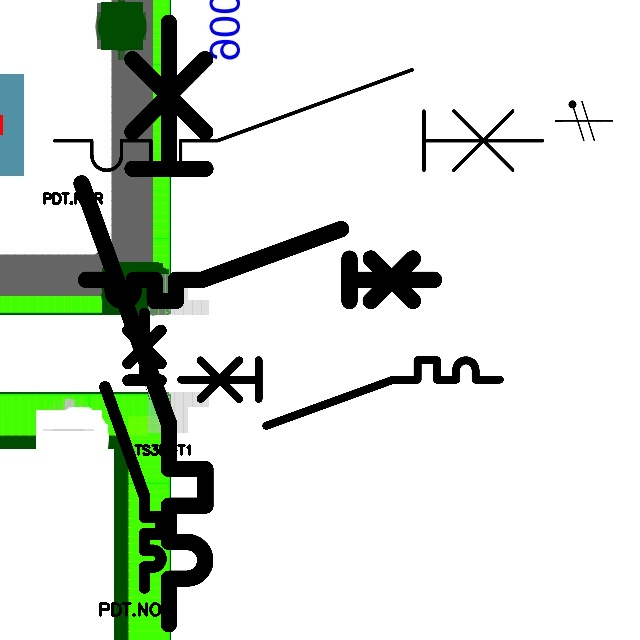interruptor_termomagnetico: (66, 7, 221, 640), (42, 57, 555, 183), (77, 220, 443, 310), (172, 352, 507, 434), (98, 306, 168, 594)
